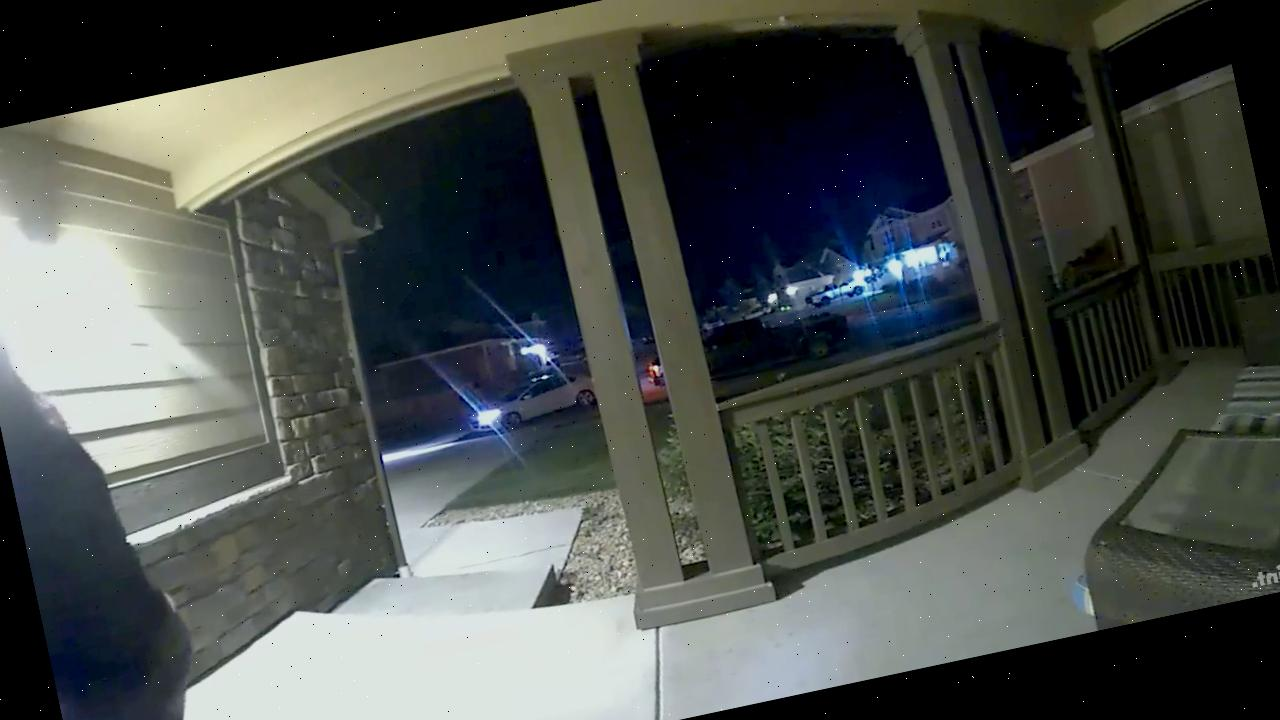suspicion: (0, 129, 384, 720)
